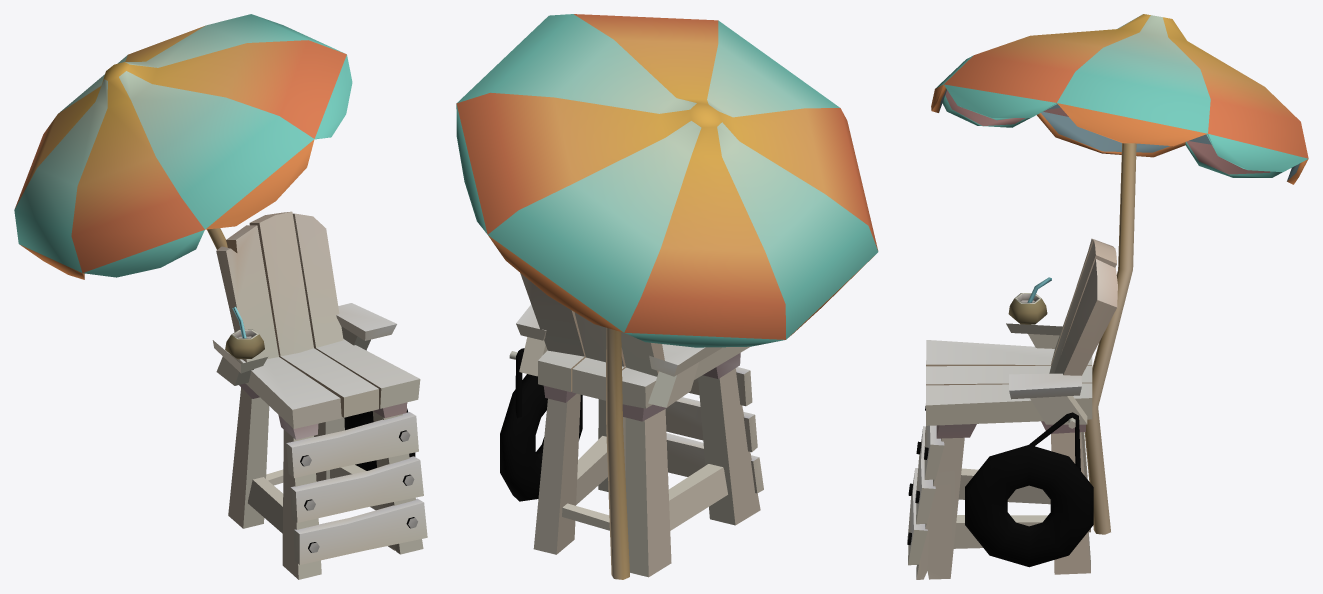
Rendered from LifeGuardChair_10.glb.
The picture shows the model from 3 angles, left to right: view 1: azimuth 30°, elevation 25°; view 2: azimuth 150°, elevation 25°; view 3: azimuth 270°, elevation 25°; orthographic projection. The views are drawn at different scales.
Visible parts, largest first — view 1: LifeGuardChair; view 2: LifeGuardChair; view 3: LifeGuardChair.
Part boxes in pixels (x1,y1,x2,y2): LifeGuardChair: (14,14,427,579); LifeGuardChair: (456,14,878,579); LifeGuardChair: (907,14,1308,579).
Size of the model in its own units: 0.9233 by 1.33 by 0.9932.
